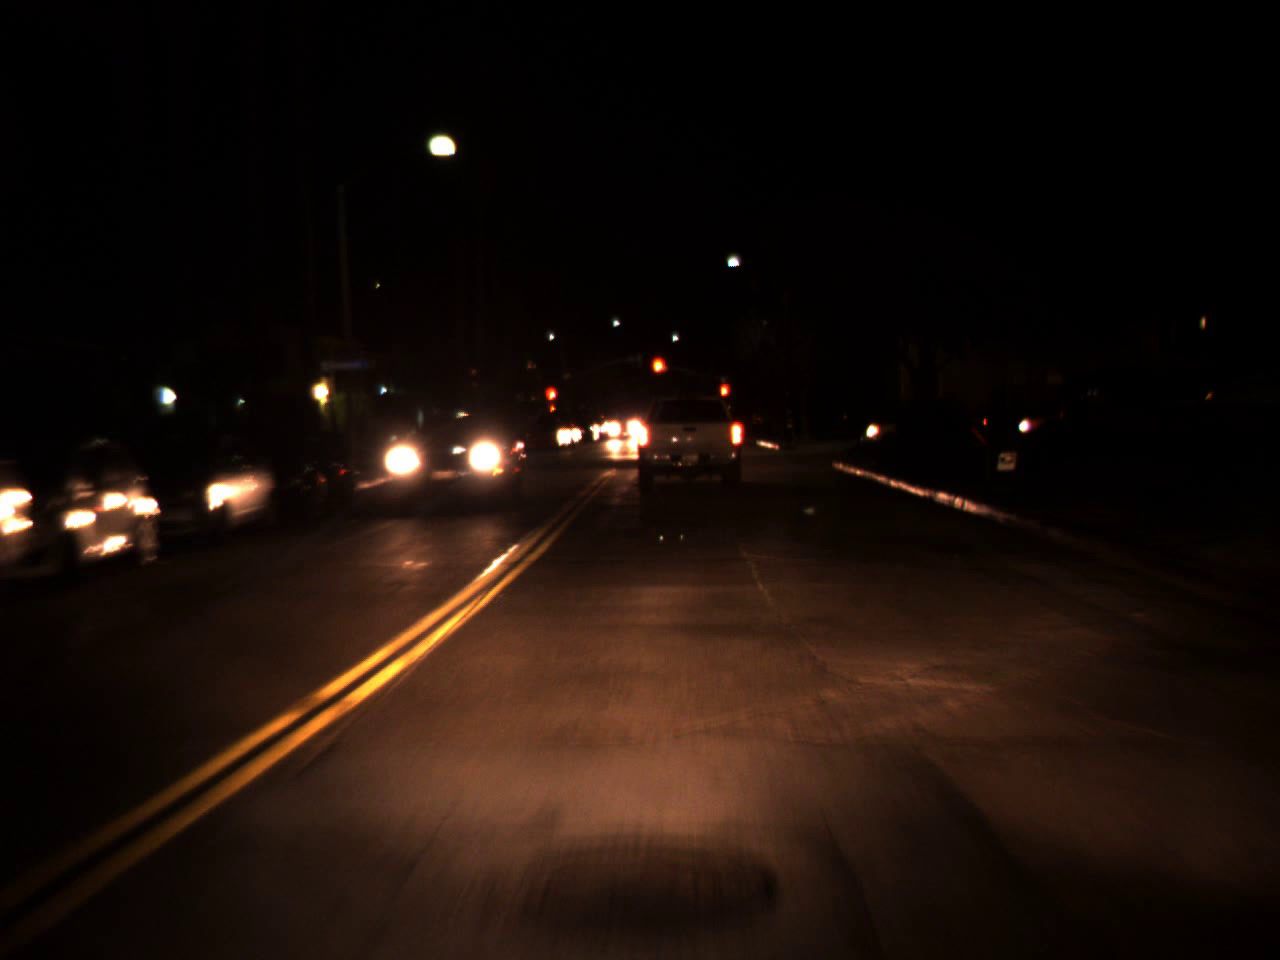stop: (649, 354, 668, 391), (543, 385, 558, 417), (719, 382, 729, 411)
